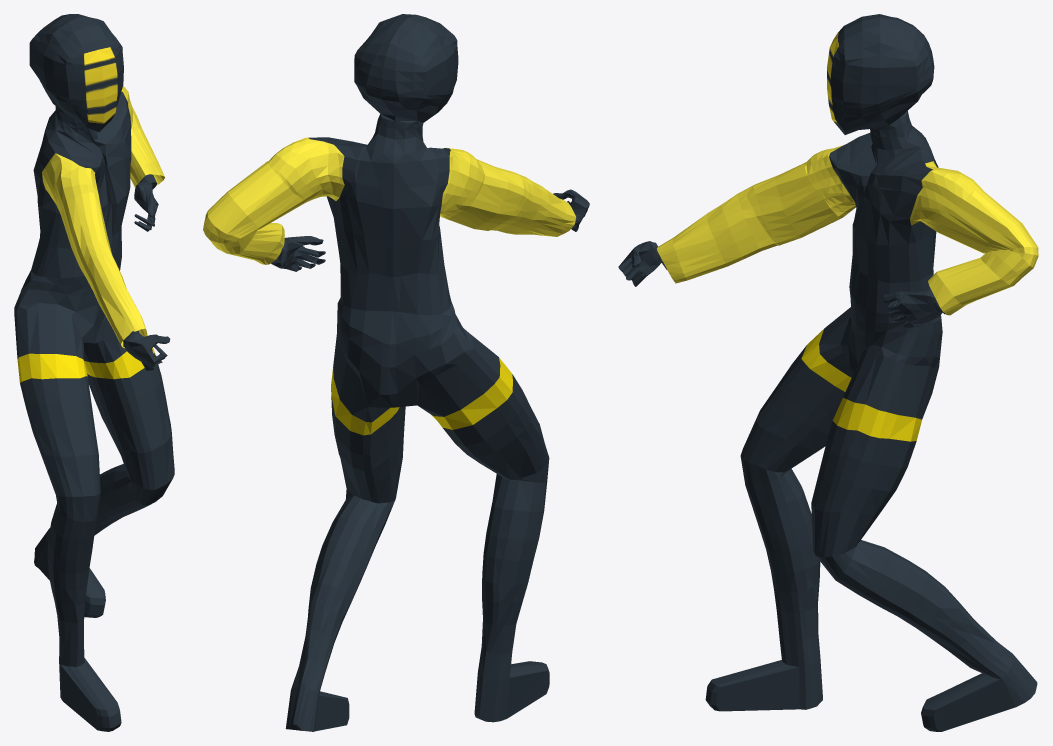
File: Sentry_WB_000023.obj
3 renders of one model, left to right at view 1: azimuth 30°, elevation 25°; view 2: azimuth 150°, elevation 25°; view 3: azimuth 270°, elevation 25°, orthographic. The views are drawn at different scales.
Parts seen in each view (by area): view 1: Cube; view 2: Cube; view 3: Cube.
Part boxes in pixels (x1=…): Cube: x1=14, y1=14, x2=174, y2=731; Cube: x1=203, y1=14, x2=589, y2=731; Cube: x1=618, y1=14, x2=1038, y2=731.
Size of the model in its own units: 1.17 by 3.71 by 1.98.
